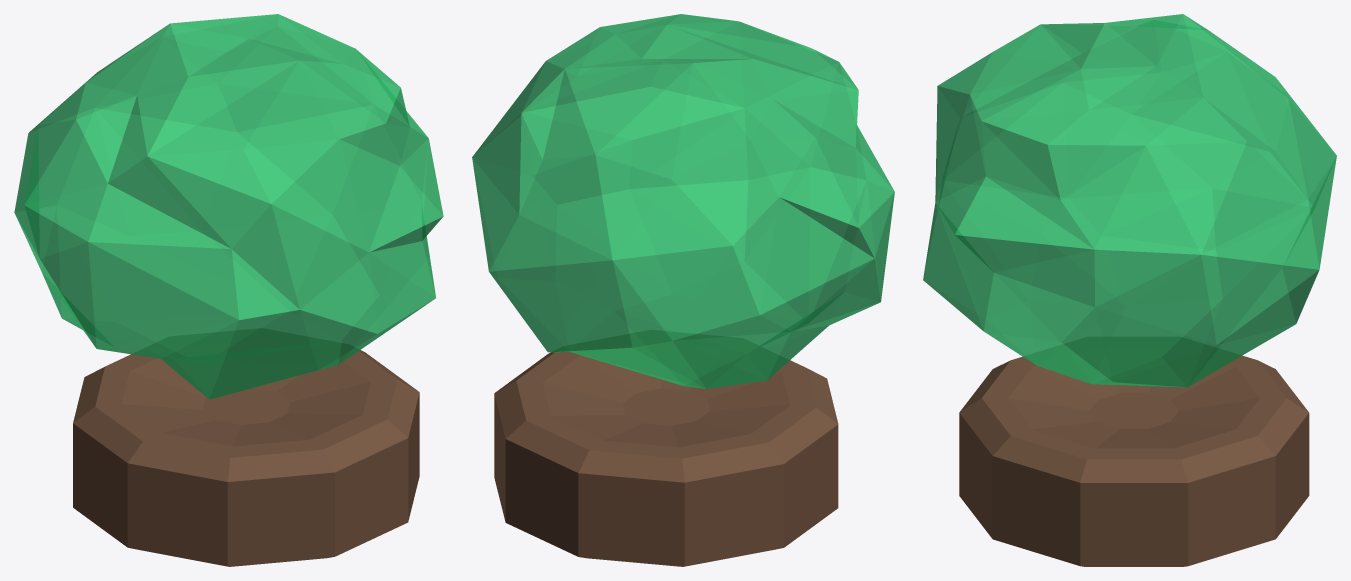
The model's file is LevelPeg.fbx.
3 renders of one model, left to right at view 1: azimuth 30°, elevation 25°; view 2: azimuth 150°, elevation 25°; view 3: azimuth 270°, elevation 25°, orthographic.
Parts seen in each view (by area): view 1: Cube.001, Cylinder; view 2: Cube.001, Cylinder; view 3: Cube.001, Cylinder.
Part boxes in pixels (box(x1,y1,x2,y2)): Cube.001: box(14, 14, 443, 399); Cylinder: box(73, 350, 419, 566); Cube.001: box(472, 14, 894, 388); Cylinder: box(494, 352, 838, 566); Cube.001: box(923, 14, 1336, 387); Cylinder: box(959, 355, 1309, 566).
Bounding box in the file's own units: 594 × 720 × 582.
